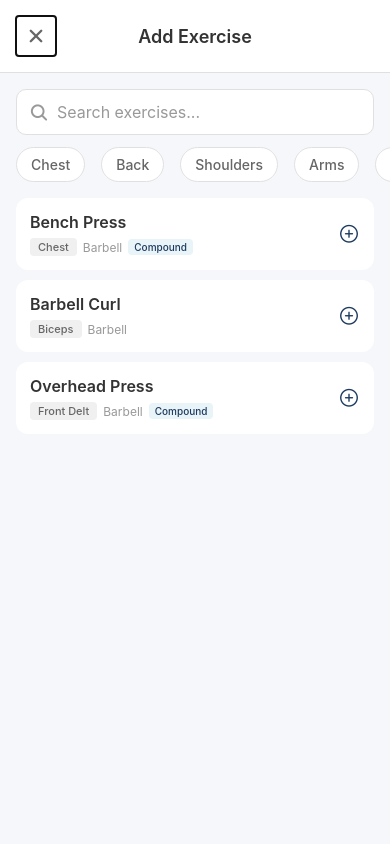
Scenario: ExercisePickerModal › filters by muscle group chip
Check: the text "Bench Press" is shown, box [30,212,126,232]
Note: Press the "Chest" filter chip (first match — muscle label in rows also says Chest)
Click the text "Chest" next to "Back" at {"x": 51, "y": 164}, box [31,156,70,173]
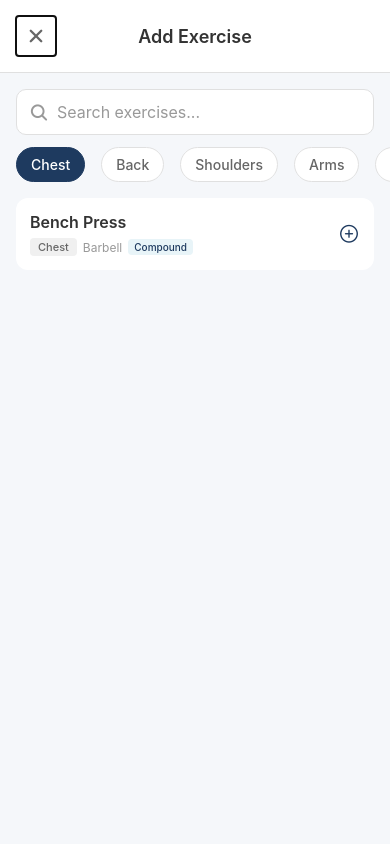
Check: the text "Bench Press" is shown, box [30,212,126,232]
Check: the text "Barbell Curl" is gone
Check: the text "Overhead Press" is gone
